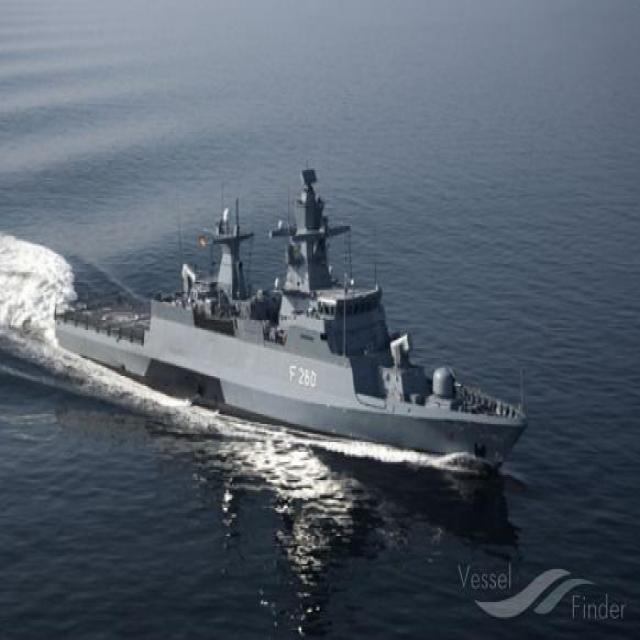OCR: (284, 359, 322, 390)
